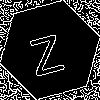Z: (25, 25, 66, 77)
